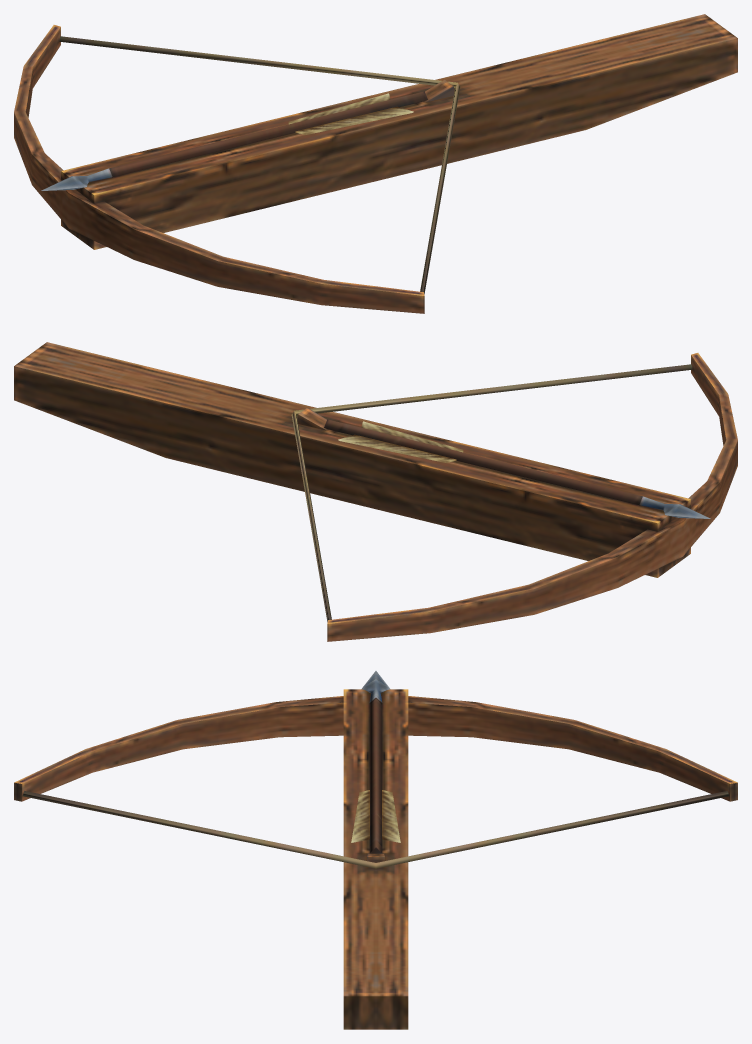
File: Crossbow01.FBX
3 renders of one model, top to bottom at view 1: azimuth 30°, elevation 25°; view 2: azimuth 150°, elevation 25°; view 3: azimuth 270°, elevation 25°, orthographic. The views are drawn at different scales.
Parts seen in each view (by area): view 1: Crossbow01; view 2: Crossbow01; view 3: Crossbow01.
Boxes of the visible parts, x1,y1,x2,y2 form: Crossbow01: (14, 14, 737, 313); Crossbow01: (14, 342, 737, 641); Crossbow01: (14, 671, 737, 1029).
Size of the model in its own units: 90.04 by 8.13 by 84.89.
